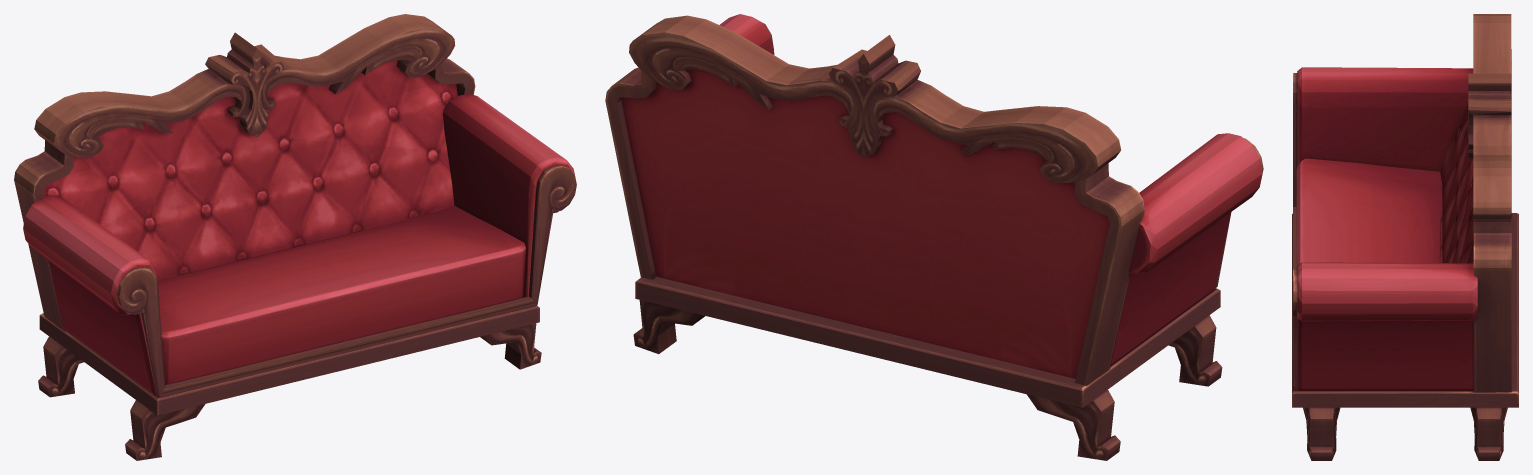
File: shafa.obj
3 renders of one model, left to right at view 1: azimuth 30°, elevation 25°; view 2: azimuth 150°, elevation 25°; view 3: azimuth 270°, elevation 25°, orthographic. The views are drawn at different scales.
Parts seen in each view (by area): view 1: s4studio_mesh_2; view 2: s4studio_mesh_2; view 3: s4studio_mesh_2.
Part boxes in pixels (bbox=[...]): s4studio_mesh_2: bbox=[14, 14, 576, 460]; s4studio_mesh_2: bbox=[605, 14, 1263, 460]; s4studio_mesh_2: bbox=[1292, 14, 1518, 460].
Bounding box in the file's own units: 1.73 × 1.08 × 0.7586.
Materials: 1 (1 with a texture image).
